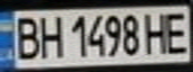1: (66, 11, 87, 57)
4: (84, 11, 106, 57)
8: (121, 10, 142, 56)
9: (103, 11, 124, 57)
B: (9, 12, 42, 61)
E: (160, 8, 193, 55)
H: (36, 11, 66, 60), (142, 8, 172, 55)
